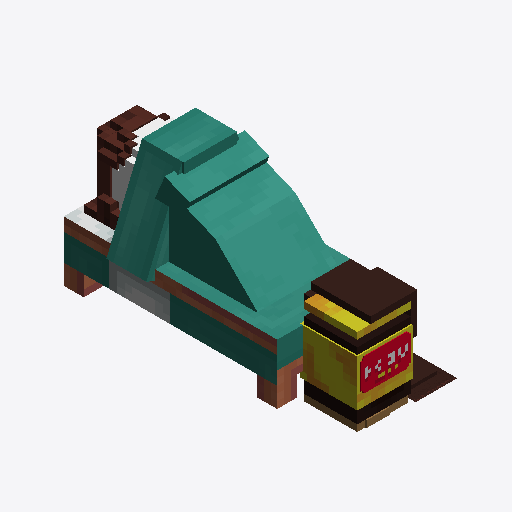
Isometric view (azimuth 45°, elevation 35.3°) of a Minecraft model made of 138 cuboids, textured from the same repository.
Parts seen in each view (by area): Bed (×2), Cube5, Cube1, Cube4, New Cube (2) (2) (2) (2), Cube3, Cube2, New Cube (2) (2) (2), element 115, New Cube (2) (×2), element 117, New Cube (2) (2) (2) (2) (2) (2) (2) (+5 smaller).
Part boxes in pixels (bbox=[...]): Bed (×2): bbox=[64, 205, 349, 385]; Cube5: bbox=[177, 193, 336, 311]; Cube1: bbox=[106, 139, 181, 281]; Cube4: bbox=[169, 162, 294, 277]; New Cube (2) (2) (2) (2): bbox=[300, 321, 412, 409]; Cube3: bbox=[155, 130, 268, 246]; Cube2: bbox=[142, 108, 236, 173]; New Cube (2) (2) (2): bbox=[304, 313, 410, 423]; element 115: bbox=[331, 271, 410, 323]; New Cube (2) (×2): bbox=[304, 294, 410, 431]; element 117: bbox=[311, 259, 375, 300]; New Cube (2) (2) (2) (2) (2) (2) (2): bbox=[360, 333, 410, 391].
Bounding box in the file's own units: 19.36 × 22.1 × 41.